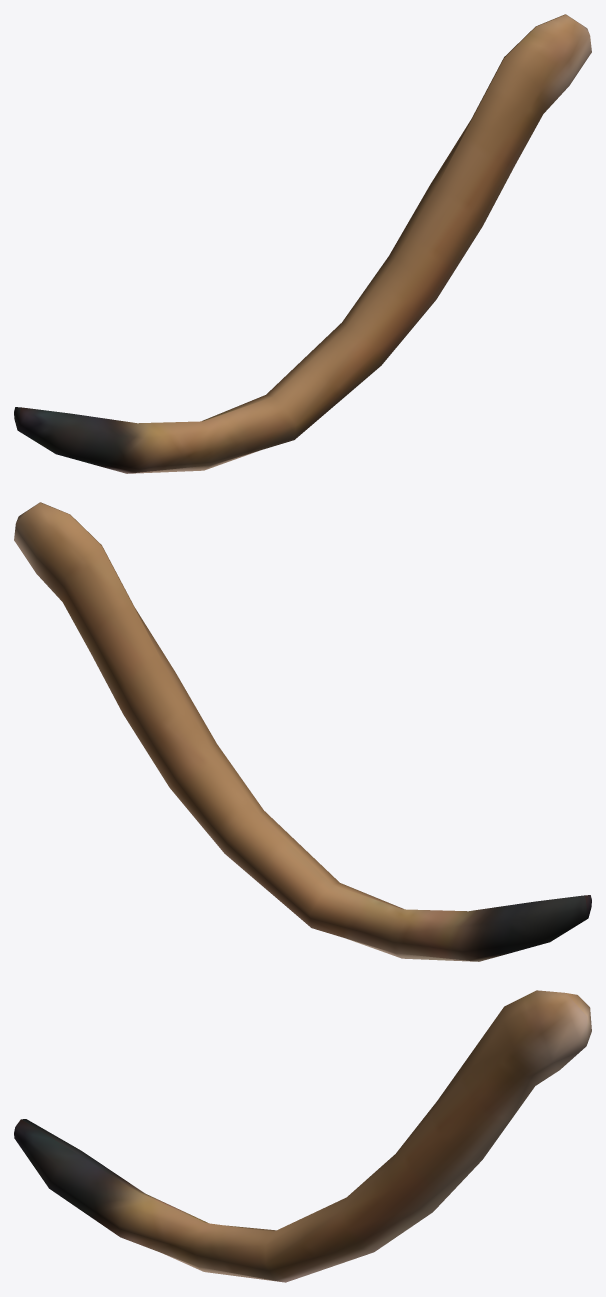
Rendered from Cougar_Tail_0.FBX.
The picture shows the model from 3 angles, top to bottom: view 1: azimuth 30°, elevation 25°; view 2: azimuth 150°, elevation 25°; view 3: azimuth 330°, elevation 25°; orthographic projection.
Visible parts, largest first — view 1: Cougar_Tail_0; view 2: Cougar_Tail_0; view 3: Cougar_Tail_0.
Part boxes in pixels (box(x1,y1,x2,y2)): Cougar_Tail_0: box(14, 14, 591, 473); Cougar_Tail_0: box(14, 502, 591, 961); Cougar_Tail_0: box(14, 990, 591, 1282).
Size of the model in its own units: 0.9426 by 0.5807 by 0.0951.
